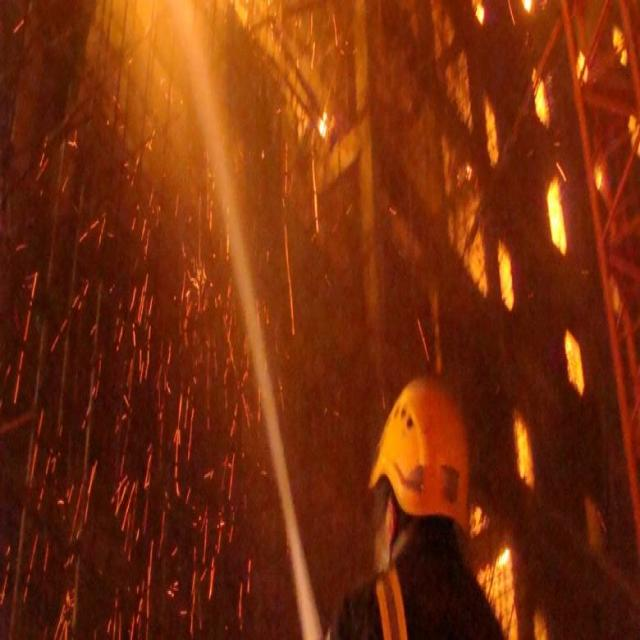fire: (106, 0, 232, 40), (565, 331, 589, 402), (498, 245, 518, 322), (514, 419, 534, 490), (548, 182, 566, 252), (486, 102, 499, 170), (488, 542, 490, 546)
